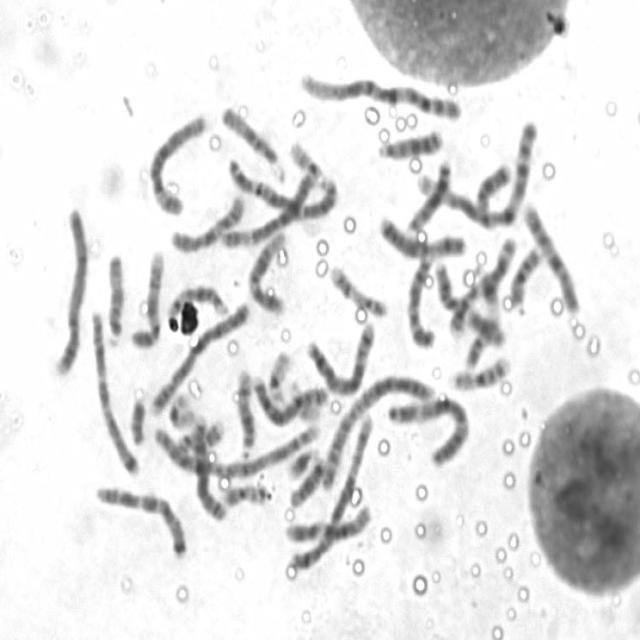A1: (406, 115, 541, 232), (297, 63, 464, 124)
A2: (317, 369, 435, 492), (150, 415, 322, 482)
A3: (225, 152, 342, 224), (384, 389, 472, 468)
B4: (144, 294, 251, 417), (49, 199, 90, 378)
B5: (282, 406, 375, 576), (302, 314, 378, 397)
C10: (520, 196, 582, 316), (167, 189, 248, 255)
C11: (444, 231, 520, 340), (429, 255, 507, 348)
C12: (281, 498, 374, 546), (244, 226, 288, 316)
C6: (218, 165, 322, 251), (144, 106, 210, 218)
C7: (86, 305, 142, 478), (90, 478, 190, 560)
C8: (188, 413, 230, 522), (248, 370, 328, 426)
C9: (127, 244, 167, 350), (403, 247, 436, 350)
D13: (402, 152, 454, 239), (374, 122, 445, 160)
D14: (164, 278, 230, 322), (231, 363, 258, 459)
D15: (218, 99, 288, 181), (104, 247, 128, 350)
E16: (448, 348, 514, 392), (506, 242, 544, 310)
E17: (325, 258, 390, 319), (172, 413, 226, 454)
E18: (286, 452, 328, 510), (472, 156, 514, 213)
F19: (264, 345, 293, 407), (163, 386, 197, 431)
F20: (458, 313, 502, 371), (219, 476, 270, 509)
G21: (283, 440, 321, 482), (473, 265, 502, 314)
G22: (286, 374, 322, 424), (287, 134, 325, 181)
X: (375, 210, 467, 262)
Y: (126, 390, 148, 446)
